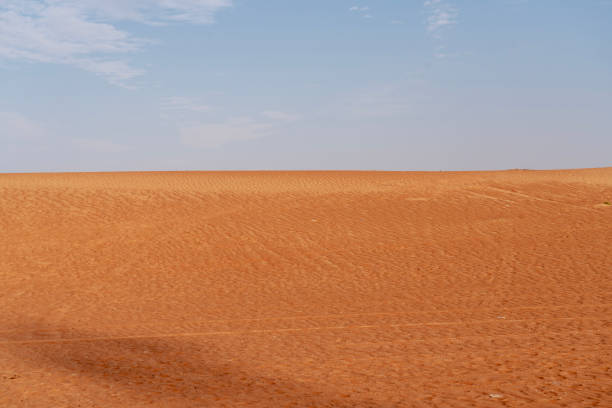vehicle_track: (0, 317, 605, 344)
